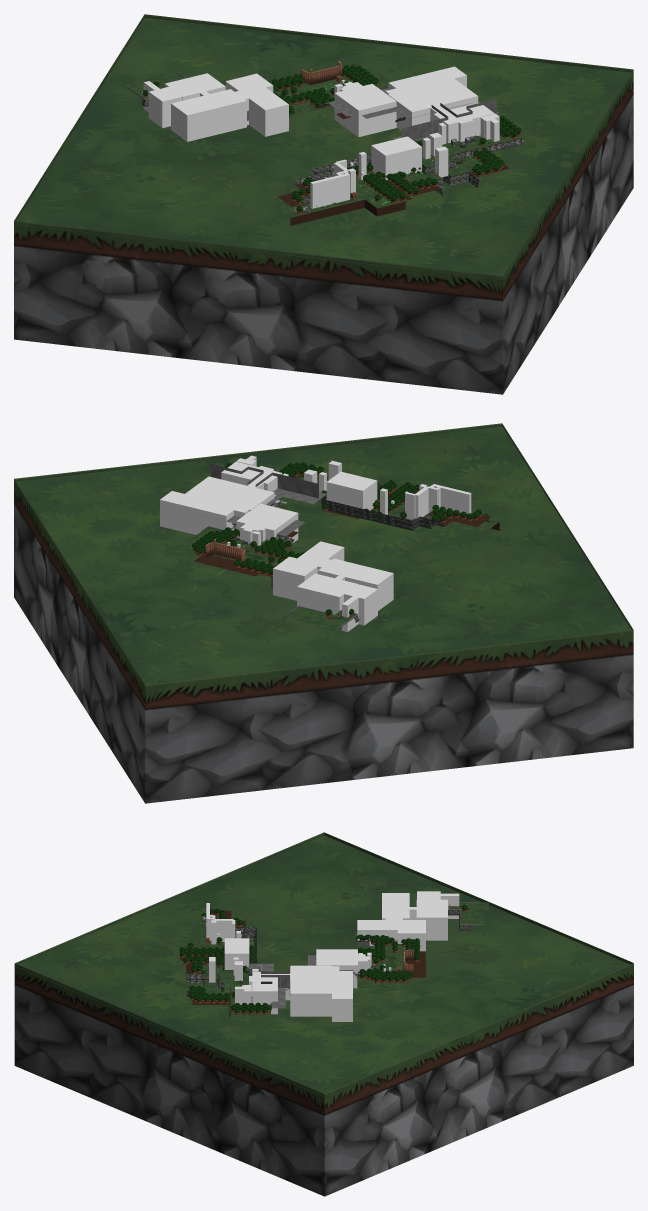
Rendered from world4.glb.
The picture shows the model from 3 angles, top to bottom: view 1: azimuth 30°, elevation 25°; view 2: azimuth 150°, elevation 25°; view 3: azimuth 270°, elevation 25°; orthographic projection. The views are drawn at different scales.
Visible parts, largest first — view 1: visual.003, visual, area_stone_.012, area_stone_.005, area_dirt_.012, area_dirt_.018, area_dirt_, area_dirt_.003, area_stone_, area_stone_.015, floor_dirt_B.030, area_stone_.006 (+6 smaller); view 2: visual, visual.003, area_stone_.006, area_stone_.005, area_dirt_.018, area_stone_.013, area_stone_.012, area_dirt_, area_dirt_.012, area_stone_, floor_receive.002, area_stone_.015 (+7 smaller); view 3: visual.003, visual, area_stone_.005, area_stone_.013, area_stone_.006, floor_receive.009, area_dirt_.018, area_dirt_.012, area_stone_, area_dirt_, area_stone_.012, floor_receive.006 (+1 smaller).
Boxes of the visible parts, x1,y1,x2,y2 form: visual.003: (14, 14, 633, 394); visual: (15, 17, 633, 279); area_stone_.012: (171, 89, 246, 141); area_stone_.005: (388, 78, 478, 130); area_dirt_.012: (334, 83, 396, 136); area_dirt_.018: (225, 75, 288, 136); area_dirt_: (371, 136, 421, 180); area_dirt_.003: (310, 173, 349, 208); area_stone_: (433, 102, 494, 143); area_stone_.015: (148, 86, 184, 127); floor_dirt_B.030: (290, 200, 405, 225); area_stone_.006: (388, 66, 466, 91); visual: (16, 426, 631, 684); visual.003: (14, 423, 633, 803); area_stone_.006: (160, 491, 237, 534); area_stone_.005: (185, 476, 274, 511); area_dirt_.018: (281, 541, 344, 600); area_stone_.013: (297, 573, 357, 614); area_stone_.012: (318, 558, 393, 610); area_dirt_: (326, 471, 377, 510); area_dirt_.012: (236, 503, 298, 542); area_stone_: (221, 461, 282, 502); floor_receive.002: (369, 502, 498, 538); area_stone_.015: (342, 583, 377, 625); visual.003: (14, 832, 633, 1196); visual: (14, 835, 629, 1096); area_stone_.005: (290, 965, 332, 1016); area_stone_.013: (416, 899, 447, 940); area_stone_.006: (332, 971, 352, 1021); floor_receive.009: (357, 941, 406, 987); area_dirt_.018: (357, 920, 425, 945); area_dirt_.012: (316, 949, 357, 988); area_stone_: (252, 971, 277, 1014); area_dirt_: (224, 938, 249, 969); area_stone_.012: (382, 893, 409, 919); floor_receive.006: (220, 970, 270, 1018).
Size of what is drawn, in the model's own units: 216 by 50.73 by 217.
Materials: 19 (12 with a texture image).
